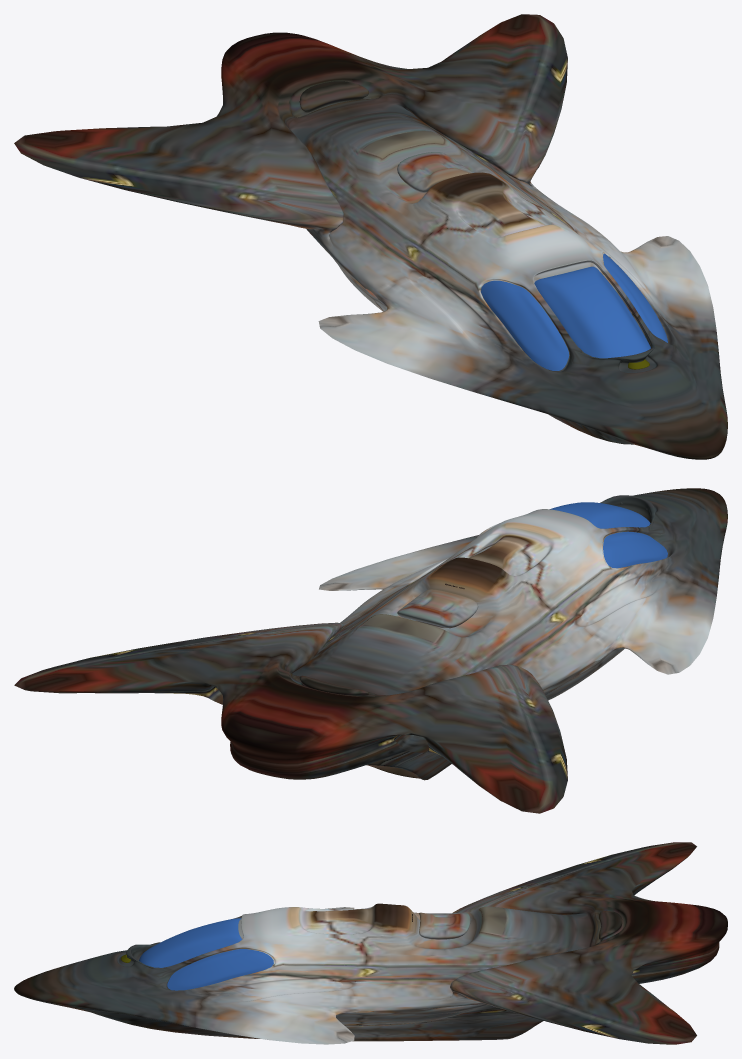
The model's file is quad.obj.
The picture shows the model from 3 angles, top to bottom: view 1: azimuth 30°, elevation 25°; view 2: azimuth 150°, elevation 25°; view 3: azimuth 270°, elevation 25°; orthographic projection. The views are drawn at different scales.
Parts seen in each view (by area): view 1: body, glass; view 2: body, glass; view 3: body, glass.
Part boxes in pixels (x1,y1,x2,y2): body: [14, 14, 727, 459]; glass: [481, 253, 667, 370]; body: [14, 488, 727, 813]; glass: [550, 502, 667, 568]; body: [14, 842, 727, 1044]; glass: [139, 918, 273, 990].
Size of the model in its own units: 505 by 140 by 752.
5 materials, 2 textured.
